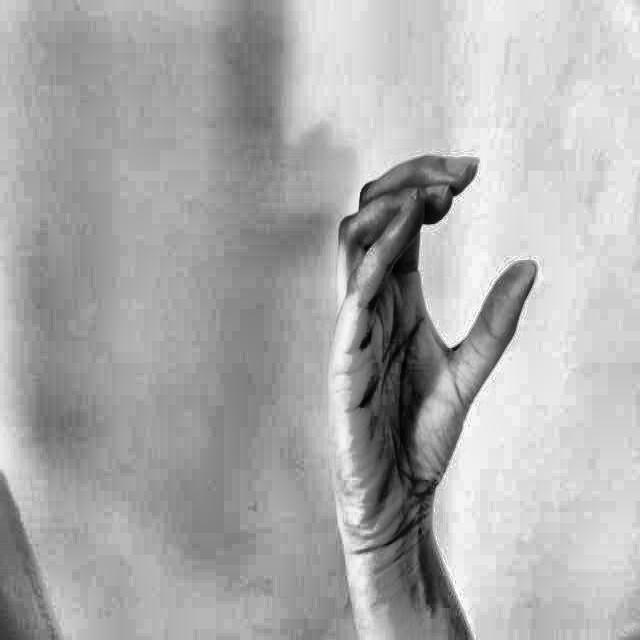A: (318, 130, 554, 577)
